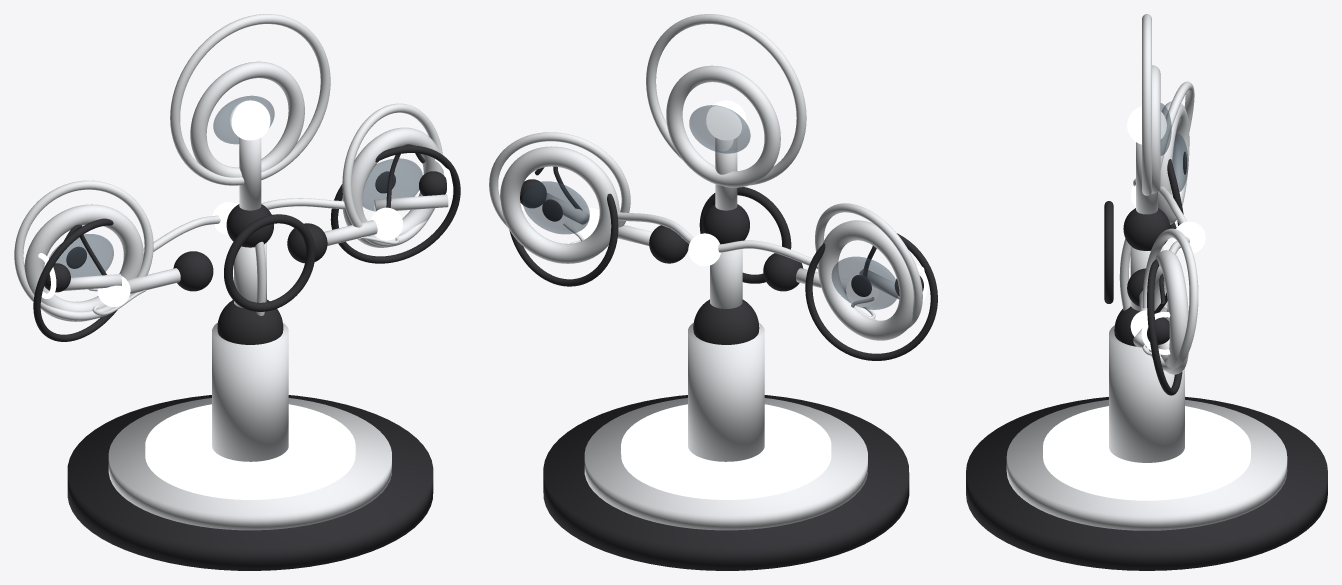
The model's file is 3D_Codex_Prompt 01_Blender.glb.
The picture shows the model from 3 angles, left to right: view 1: azimuth 30°, elevation 25°; view 2: azimuth 150°, elevation 25°; view 3: azimuth 270°, elevation 25°; orthographic projection.
Visible parts, largest first — view 1: Base_01, Base_02, Base_03, Pedestal, Halo_Ring, Central_Eye_Ring, Eye_Housing_L, Upper_Arc_L, Eye_Housing_R, Rear_CounterRing, Upper_Arc_R, Lower_Arc_R (+20 smaller); view 2: Base_01, Base_02, Base_03, Pedestal, Eye_Housing_R, Central_Eye_Ring, Eye_Housing_L, Halo_Ring, Eye_Lens_R, Eye_Lens_L, Lower_Arc_L, Upper_Arc_R (+14 smaller); view 3: Base_01, Base_02, Base_03, Pedestal, Eye_Housing_R, Upper_Arc_R, Eye_Housing_L, Halo_Ring, Spine_Joint_01, Lower_Arc_R, Central_Eye_Ring, Rear_CounterRing (+11 smaller).
Boxes of the visible parts, <box> form: Base_01: <box>67,395,433,570</box>; Base_02: <box>108,398,391,530</box>; Base_03: <box>145,404,355,499</box>; Pedestal: <box>212,322,288,461</box>; Halo_Ring: <box>170,14,330,185</box>; Central_Eye_Ring: <box>190,61,304,177</box>; Eye_Housing_L: <box>24,204,143,321</box>; Upper_Arc_L: <box>14,180,153,320</box>; Eye_Housing_R: <box>342,127,443,247</box>; Rear_CounterRing: <box>224,214,315,311</box>; Upper_Arc_R: <box>342,103,442,246</box>; Lower_Arc_R: <box>330,145,460,263</box>; Base_01: <box>543,395,909,570</box>; Base_02: <box>584,398,867,530</box>; Base_03: <box>621,404,831,499</box>; Pedestal: <box>688,323,764,461</box>; Eye_Housing_R: <box>500,146,619,263</box>; Central_Eye_Ring: <box>666,65,780,187</box>; Eye_Housing_L: <box>818,220,913,340</box>; Halo_Ring: <box>646,14,806,185</box>; Eye_Lens_R: <box>522,181,589,234</box>; Eye_Lens_L: <box>831,256,898,309</box>; Lower_Arc_L: <box>805,233,937,360</box>; Upper_Arc_R: <box>489,132,630,227</box>; Base_01: <box>966,397,1327,570</box>; Base_02: <box>1006,399,1287,530</box>; Base_03: <box>1043,406,1250,500</box>; Pedestal: <box>1109,325,1184,462</box>; Eye_Housing_R: <box>1154,250,1188,374</box>; Upper_Arc_R: <box>1142,228,1198,371</box>; Eye_Housing_L: <box>1158,101,1189,224</box>; Halo_Ring: <box>1142,14,1151,195</box>; Spine_Joint_01: <box>1123,208,1170,250</box>; Lower_Arc_R: <box>1147,259,1182,395</box>; Central_Eye_Ring: <box>1151,65,1160,193</box>; Rear_CounterRing: <box>1104,201,1113,303</box>.
Size of what is drawn, in the model's own units: 5.42 by 5.75 by 4.
